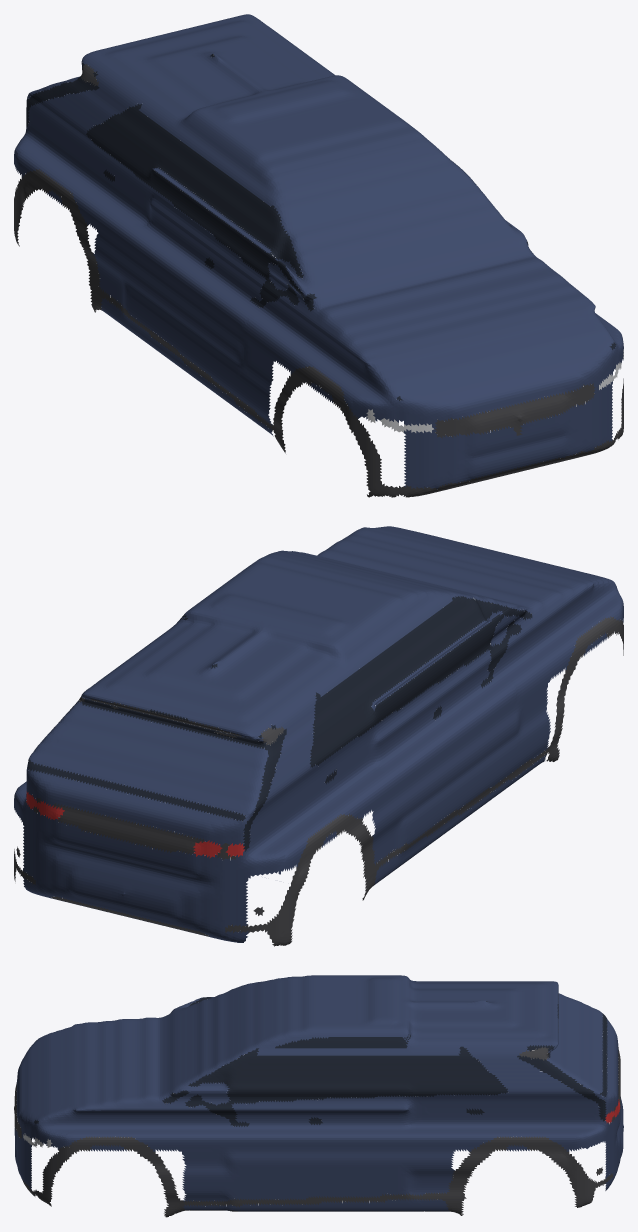
The model's file is ioniq5_body.glb.
3 renders of one model, top to bottom at view 1: azimuth 30°, elevation 25°; view 2: azimuth 150°, elevation 25°; view 3: azimuth 270°, elevation 25°, orthographic. The views are drawn at different scales.
Visible parts, largest first — view 1: paint, glass, dark, light_front; view 2: paint, glass, dark, light_rear; view 3: paint, glass, dark.
Boxes of the visible parts, left/top/right/bottom form: paint: left=14, top=14, right=623, bottom=489; glass: left=26, top=54, right=615, bottom=400; dark: left=14, top=64, right=623, bottom=497; light_front: left=366, top=349, right=623, bottom=432; paint: left=14, top=526, right=623, bottom=942; glass: left=26, top=596, right=532, bottom=851; dark: left=14, top=616, right=623, bottom=946; light_rear: left=26, top=791, right=244, bottom=858; paint: left=14, top=975, right=623, bottom=1211; glass: left=34, top=997, right=607, bottom=1126; dark: left=14, top=994, right=620, bottom=1217.
Size of the model in its own units: 1.89 by 1.49 by 4.63.
